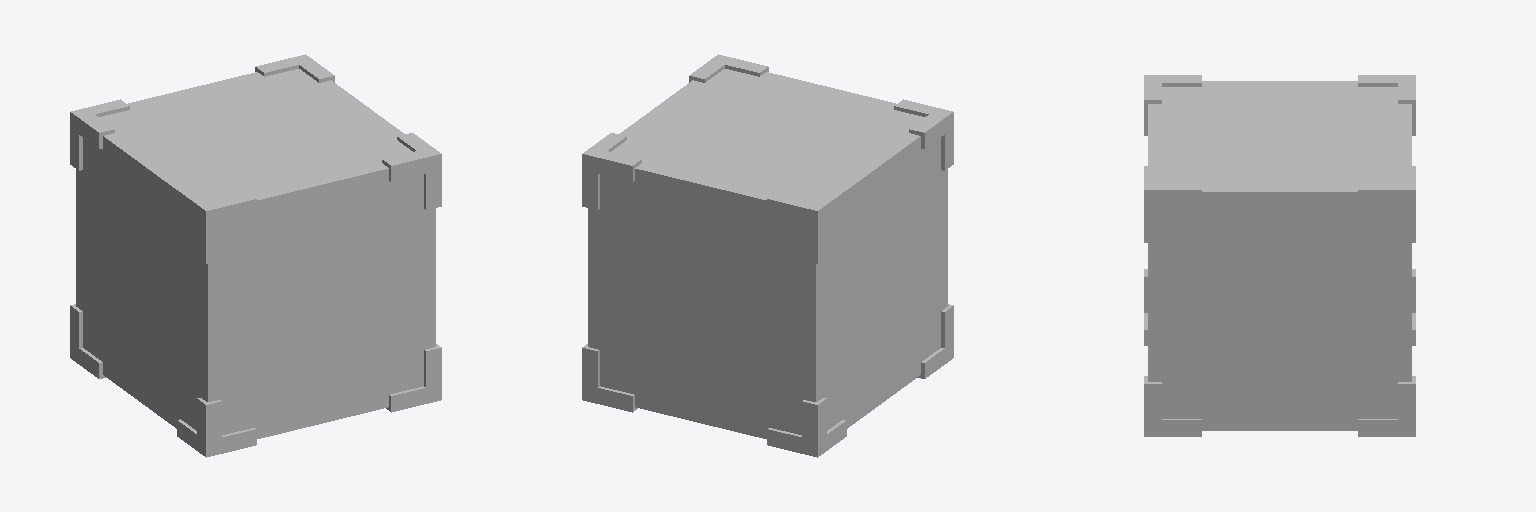
Rendered from obstacle_box_1.obj.
3 views of the same model, side by side, from view 1: azimuth 30°, elevation 25°; view 2: azimuth 150°, elevation 25°; view 3: azimuth 270°, elevation 25° (orthographic).
Bounding box in the file's own units: 0.2026 × 0.2026 × 0.2026.